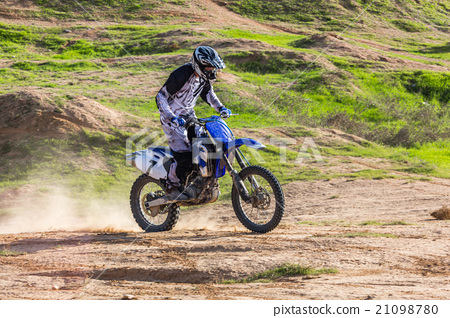helmet: (194, 41, 222, 79)
